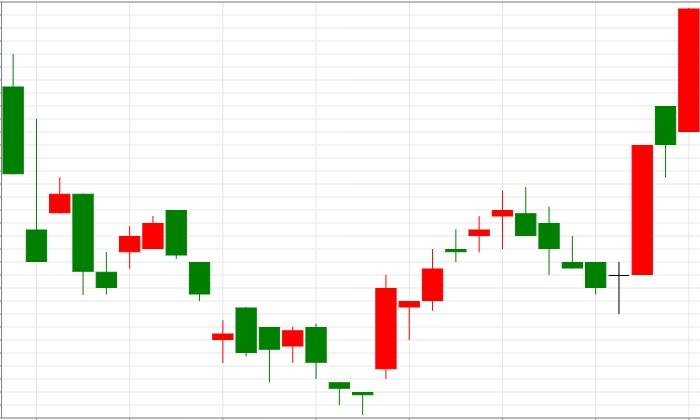bearish_engulfing_fall: (95, 209, 187, 294)
